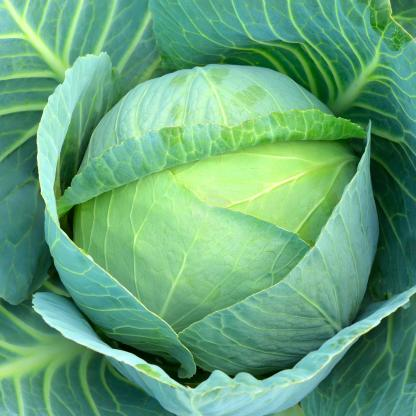---: (0, 1, 416, 416)
